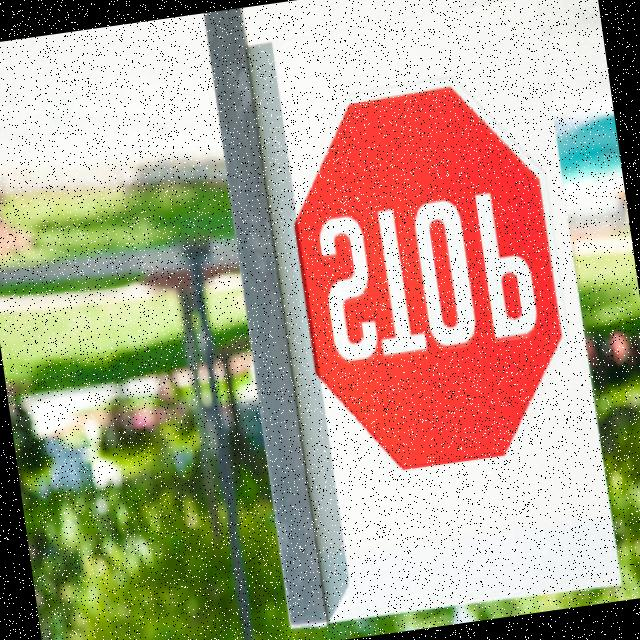stop: (268, 61, 595, 494)
